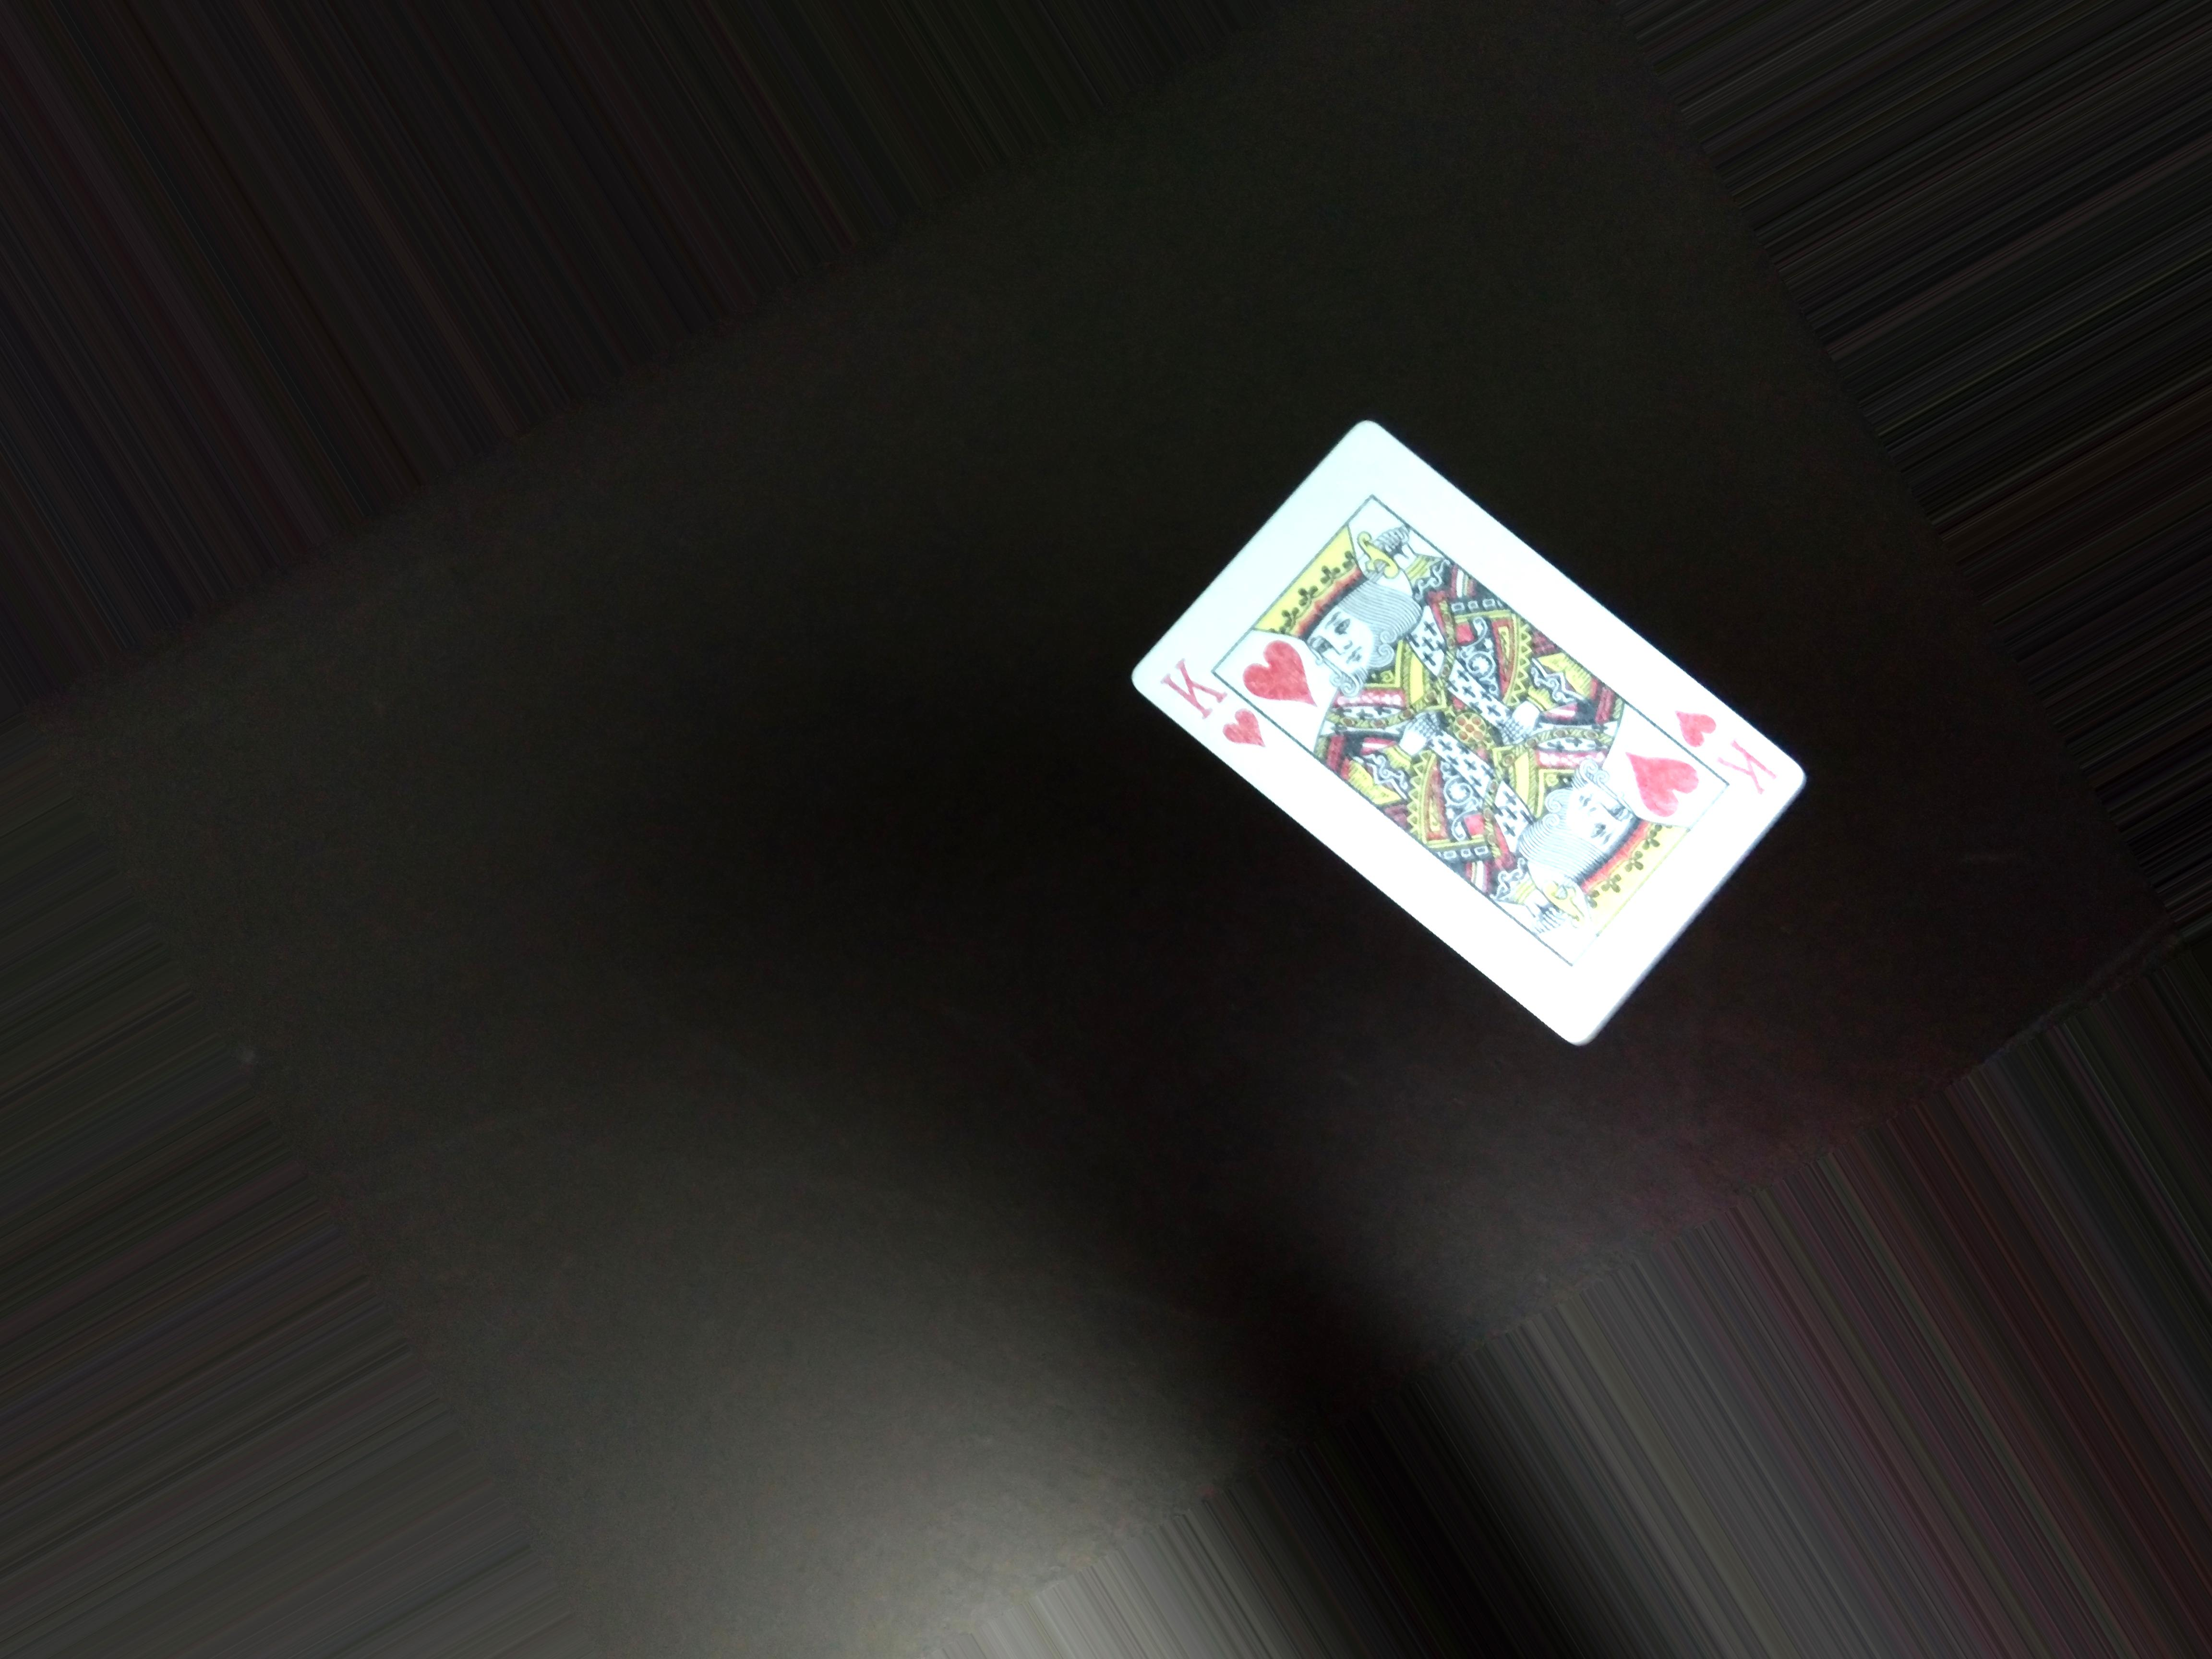KH: (1674, 704, 1789, 789)
